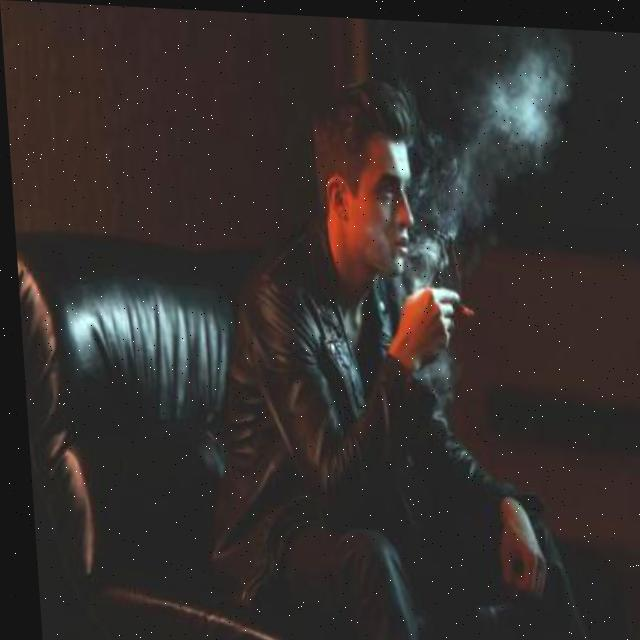cigarette: (449, 293, 471, 314)
